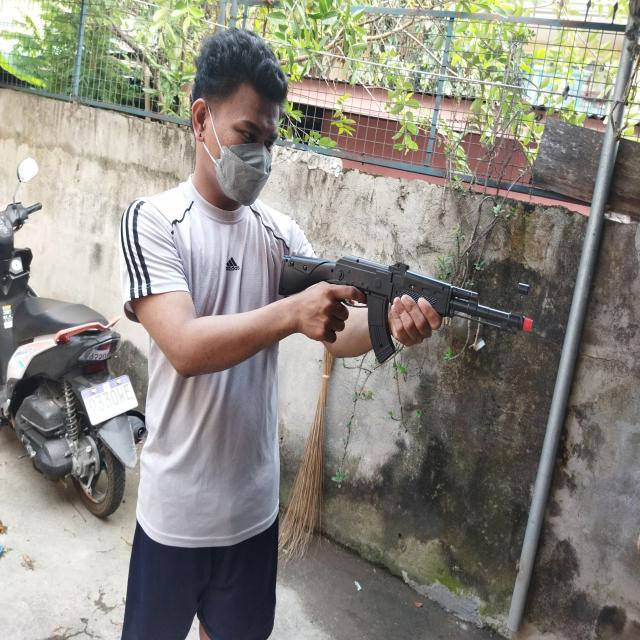rifle: (278, 255, 532, 361)
